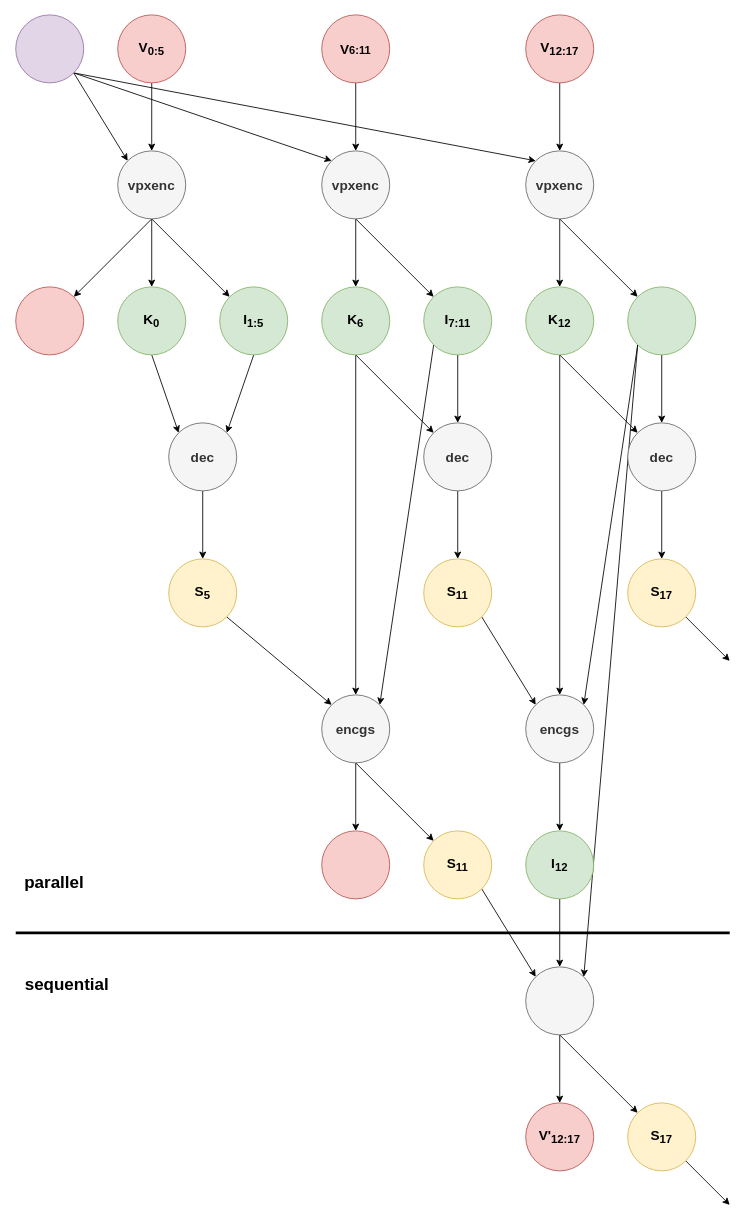
Some shapes in this 751 by 1227 pixel diagram are drawn without their labels. The shapes that lost their labels are listed below. From the top down, each one's centre as x and y in pixels, then its label:
(49,48): C 0
(49,320): V' 0:5
(661,320): I 13:17
(355,864): V' 6:11
(559,1000): rebase
